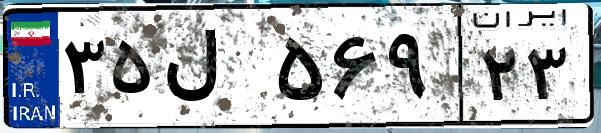2: (475, 38, 525, 113)
3: (57, 26, 110, 100), (525, 38, 570, 115)
5: (270, 28, 330, 110), (110, 28, 158, 98)
6: (330, 28, 385, 110)
9: (385, 28, 445, 110)
ل: (158, 20, 270, 120)
